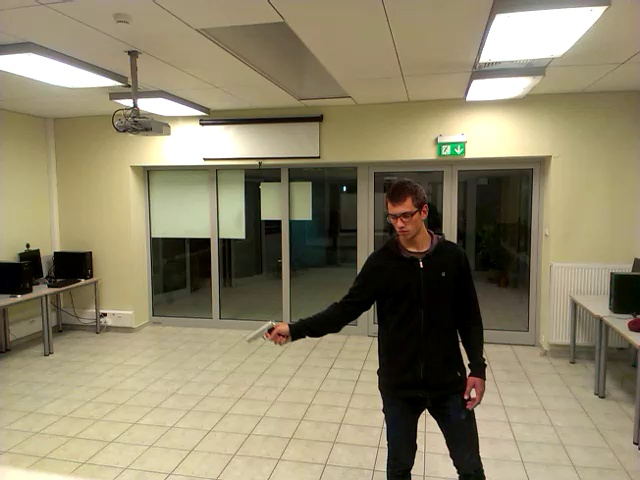gun: (237, 299, 299, 366)
